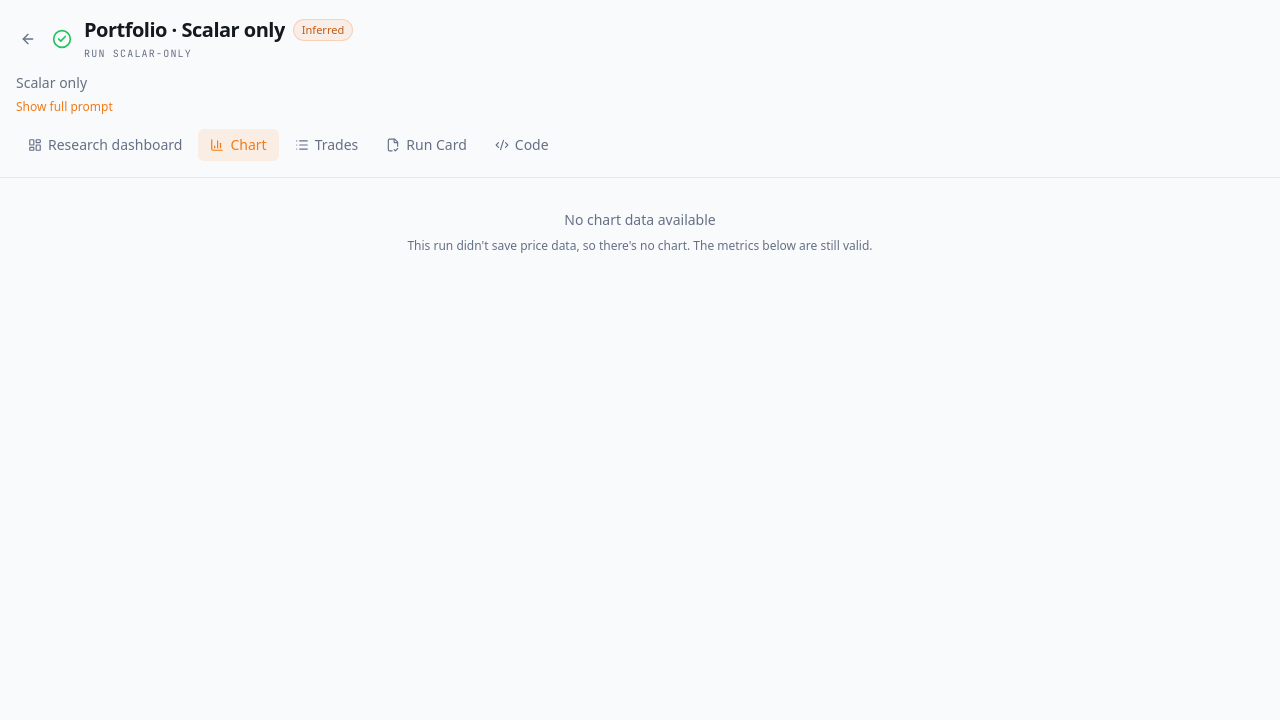
RunDetail page › shows the structured-metrics empty state when the card carries none
Check: the text "Scalar only" is shown, box [16, 73, 87, 92]
Click the tab "Run Card" at (427, 145), box [374, 129, 479, 161]
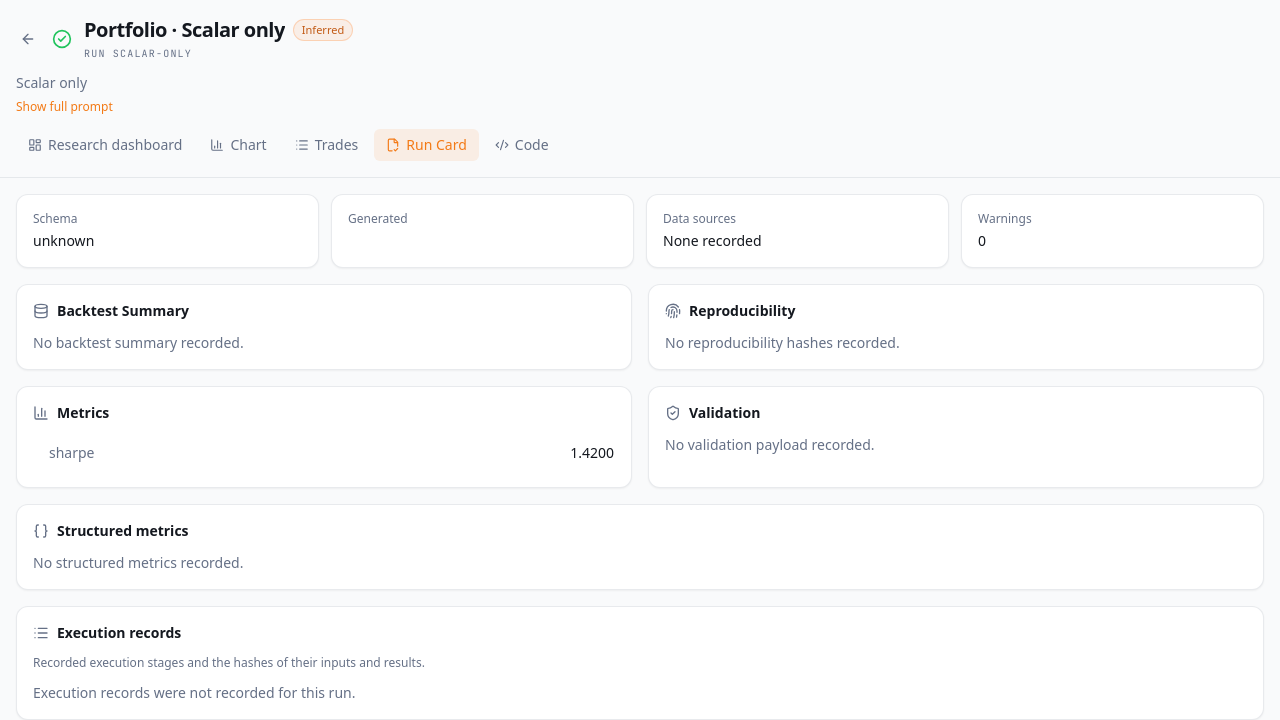
Check: the text "No structured metrics recorded." is shown, box [33, 553, 244, 572]
